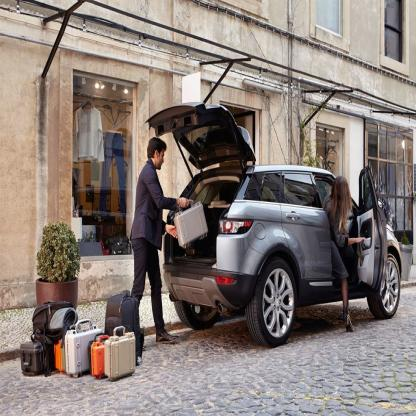Car: (144, 99, 405, 351)
